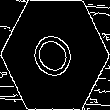O_SE: (26, 24, 84, 86)
